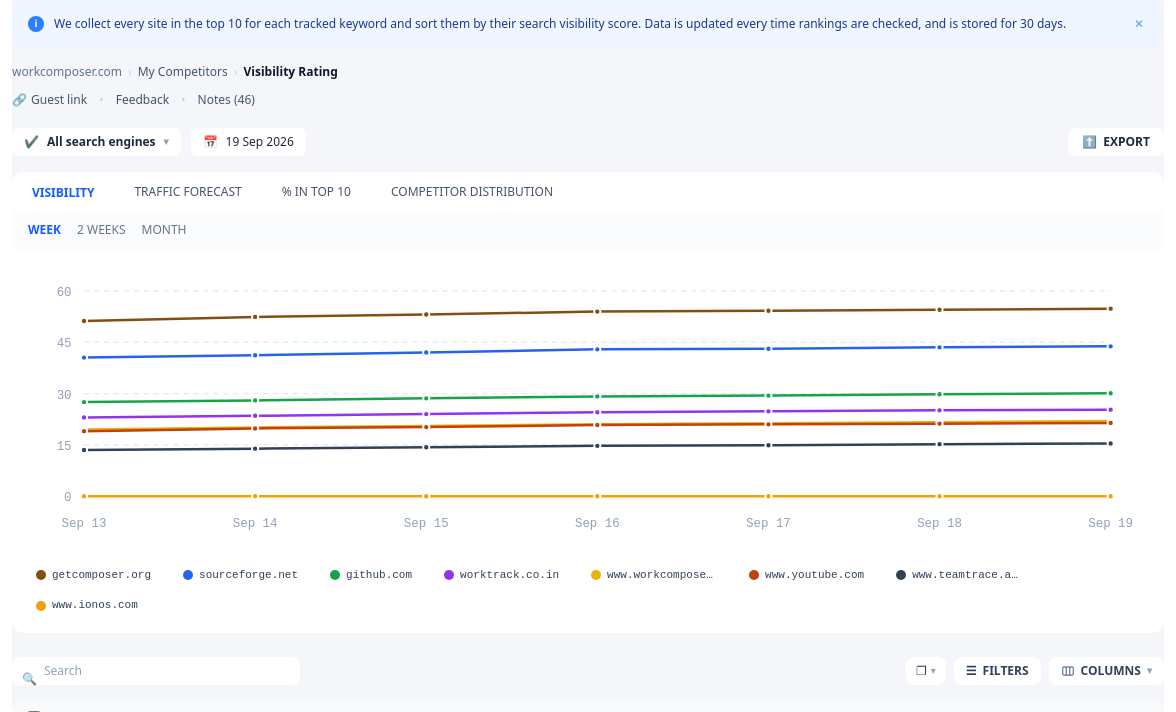
VisibilityRatingView Component › discards staged date when clicking CANCEL in calendar popover
What coordinates should you click on to do the following:
click the button with aria-label "Select date"
I would click on:
 (248, 142)
Its box is [191, 128, 306, 156].
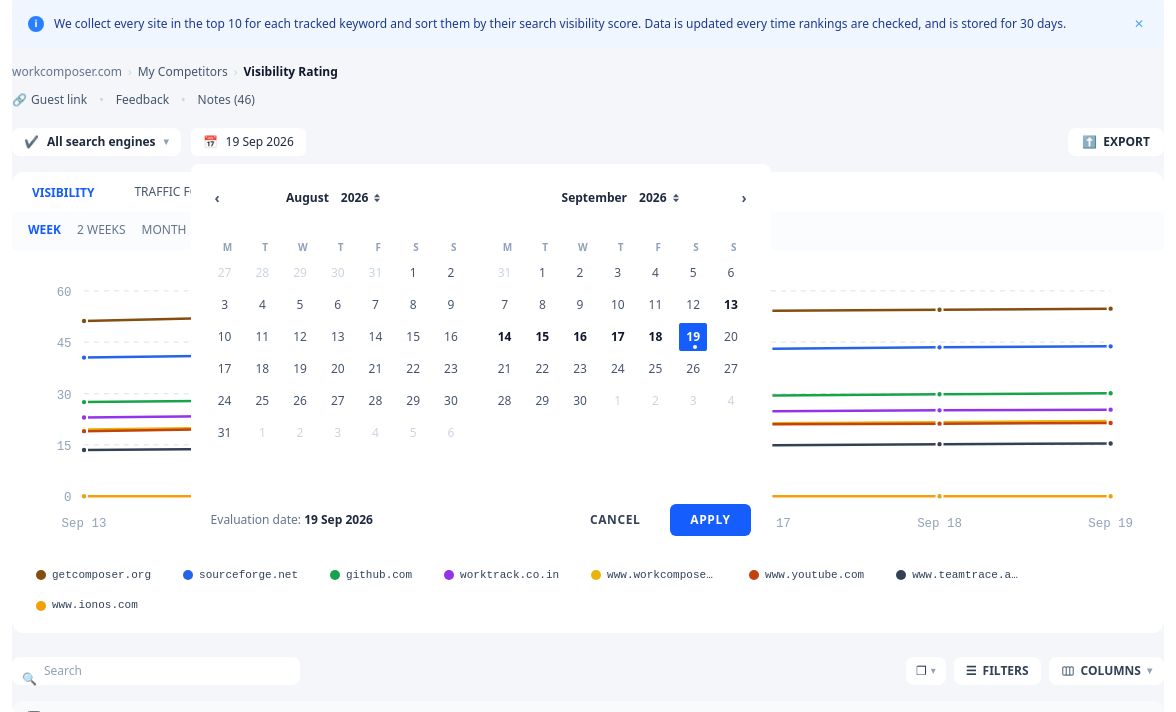
What coordinates should you click on to do the following:
click the button named "15 September 2026"
I would click on:
 (542, 337)
Its box is [528, 323, 556, 351].
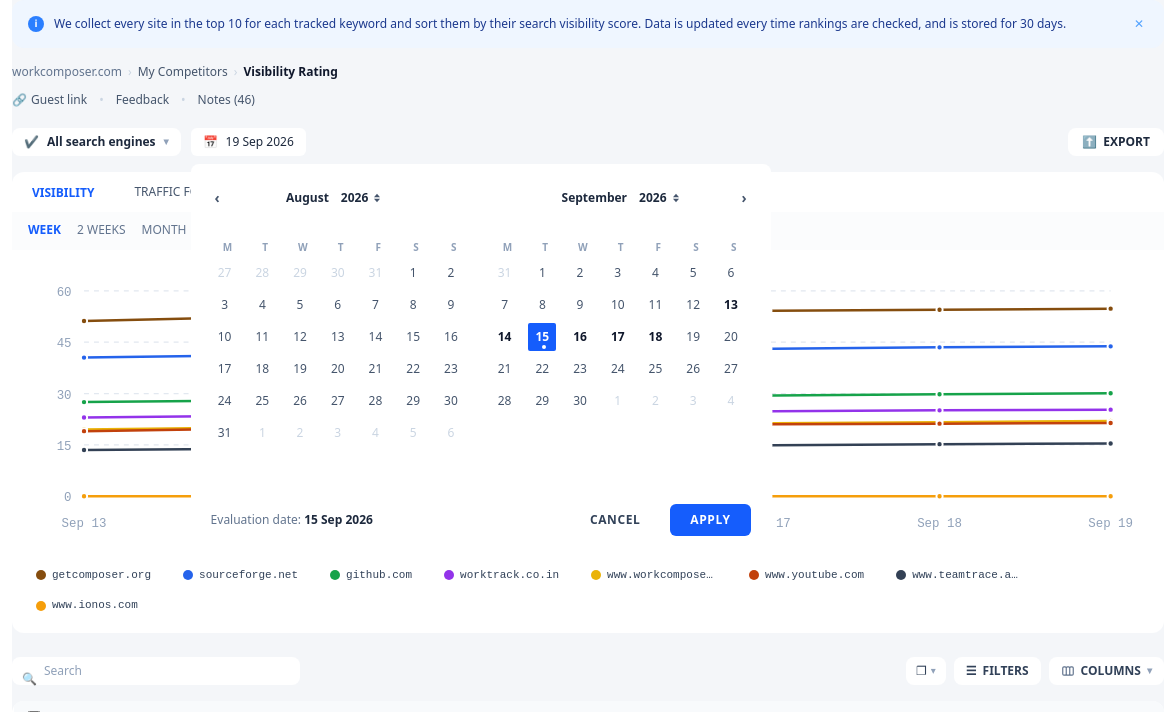
What coordinates should you click on to do the following:
click the button "CANCEL"
I would click on:
 (615, 520)
Its box is [570, 504, 660, 536].
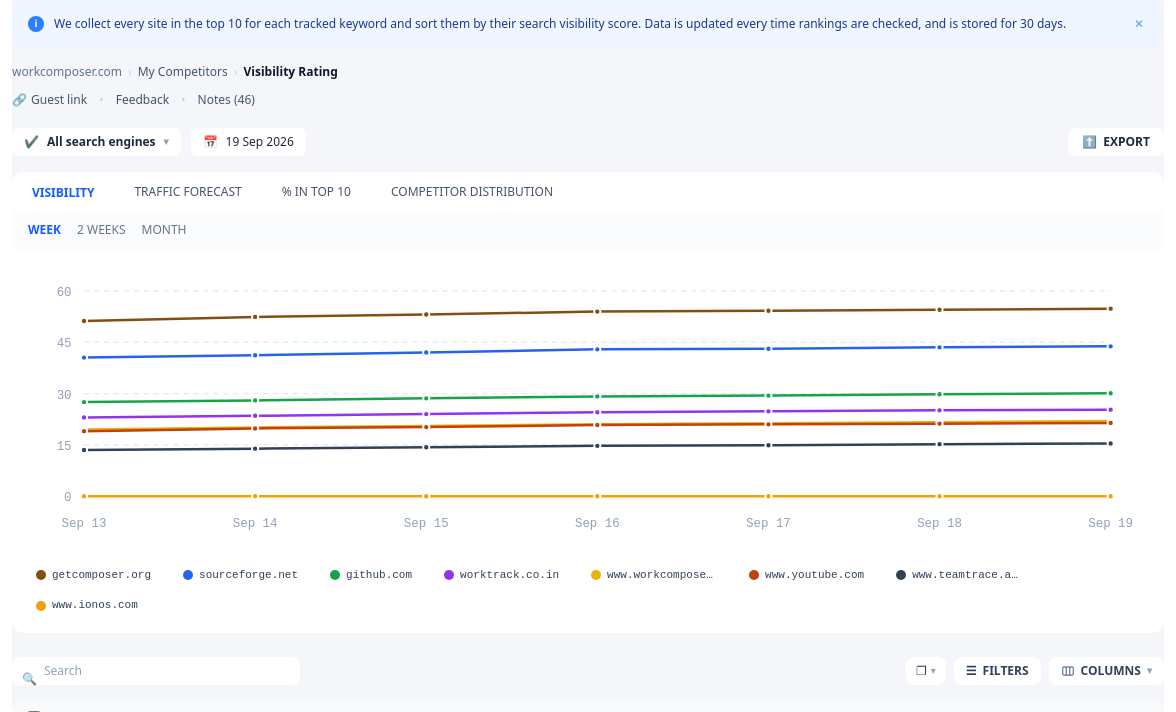
Expected: the text "19 Sep 2026" is shown, [226, 134, 294, 150]
Now the element with test id "visibility-calendar-popover" is gone
